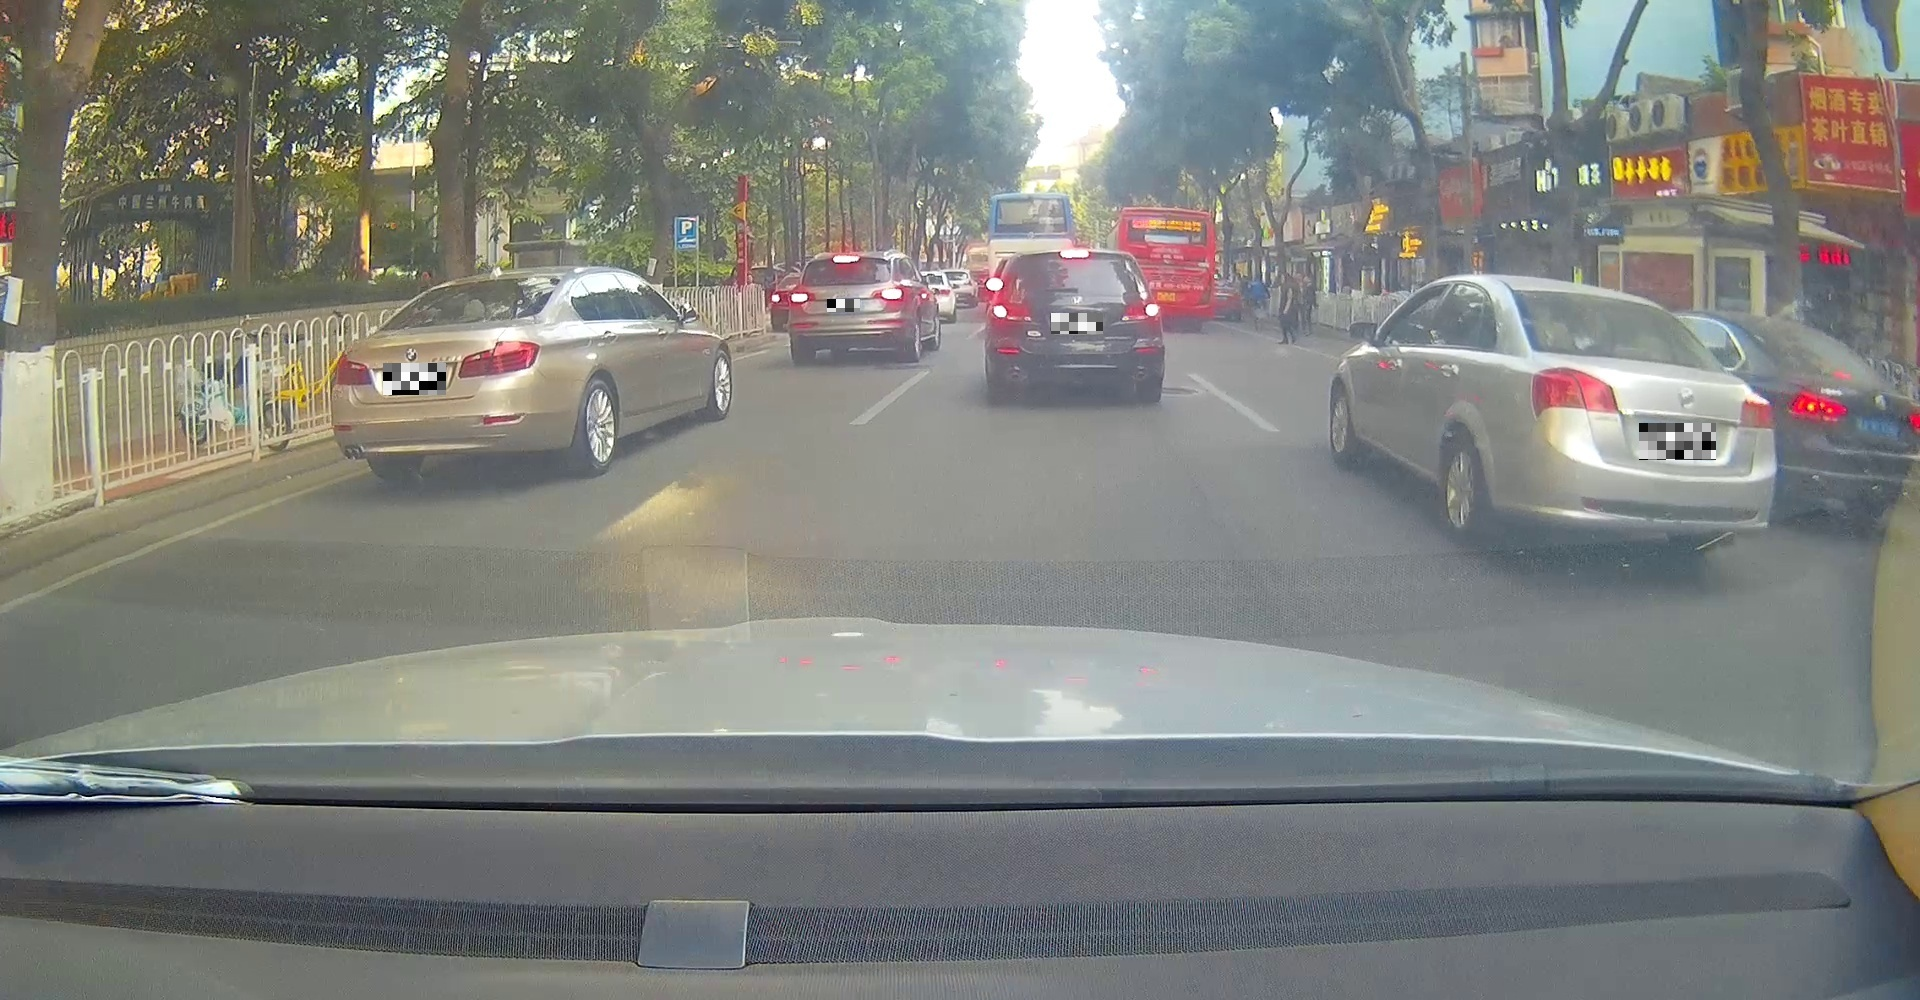L_light: (1531, 367, 1625, 415), (334, 350, 373, 386), (987, 299, 1031, 327), (787, 289, 815, 306)
R_light: (457, 340, 540, 379), (1740, 398, 1777, 429), (871, 286, 910, 307), (1125, 299, 1163, 321)
T_light: (1628, 346, 1669, 358), (469, 280, 500, 291), (832, 255, 861, 263), (1060, 250, 1090, 258)
day-brake: (985, 249, 1164, 397), (787, 251, 910, 362)
day-no: (1529, 277, 1777, 544), (329, 266, 541, 484)
plate_1: (383, 363, 446, 395)
plate_2: (827, 299, 860, 312)
plate_3: (1051, 313, 1103, 334)
plate_4: (1639, 423, 1716, 459)
